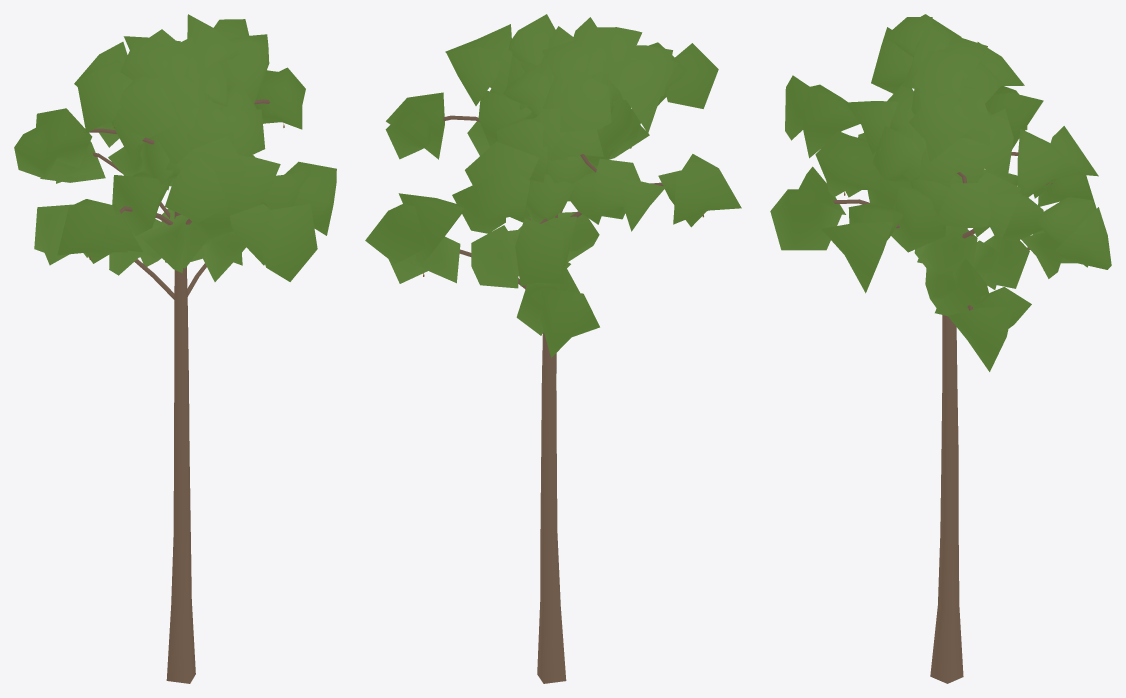
File: Blender_LoblollyPine_2_Far.glb
3 renders of one model, left to right at view 1: azimuth 30°, elevation 25°; view 2: azimuth 150°, elevation 25°; view 3: azimuth 270°, elevation 25°, orthographic. The views are drawn at different scales.
Visible parts, largest first — view 1: Blender_LoblollyPine_2_Far; view 2: Blender_LoblollyPine_2_Far; view 3: Blender_LoblollyPine_2_Far.
Part boxes in pixels (x1,y1,x2,y2): Blender_LoblollyPine_2_Far: [14, 14, 336, 683]; Blender_LoblollyPine_2_Far: [365, 14, 741, 683]; Blender_LoblollyPine_2_Far: [770, 14, 1111, 683].
Bounding box in the file's own units: 11.87 × 24.8 × 11.98.
